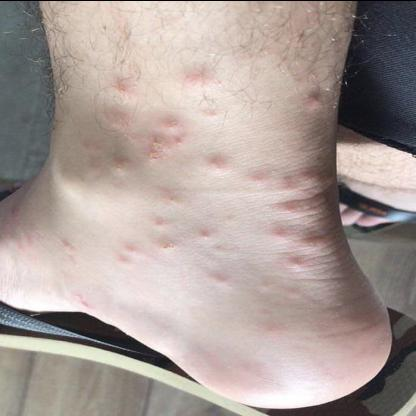Fire ant: (100, 48, 136, 98), (32, 32, 76, 52), (45, 62, 75, 80), (79, 62, 97, 76), (82, 43, 96, 53), (26, 83, 43, 91), (21, 70, 35, 78), (74, 20, 92, 26), (64, 54, 78, 61), (82, 80, 98, 86), (121, 26, 135, 32), (43, 22, 57, 28), (3, 60, 11, 66), (80, 30, 91, 34)
